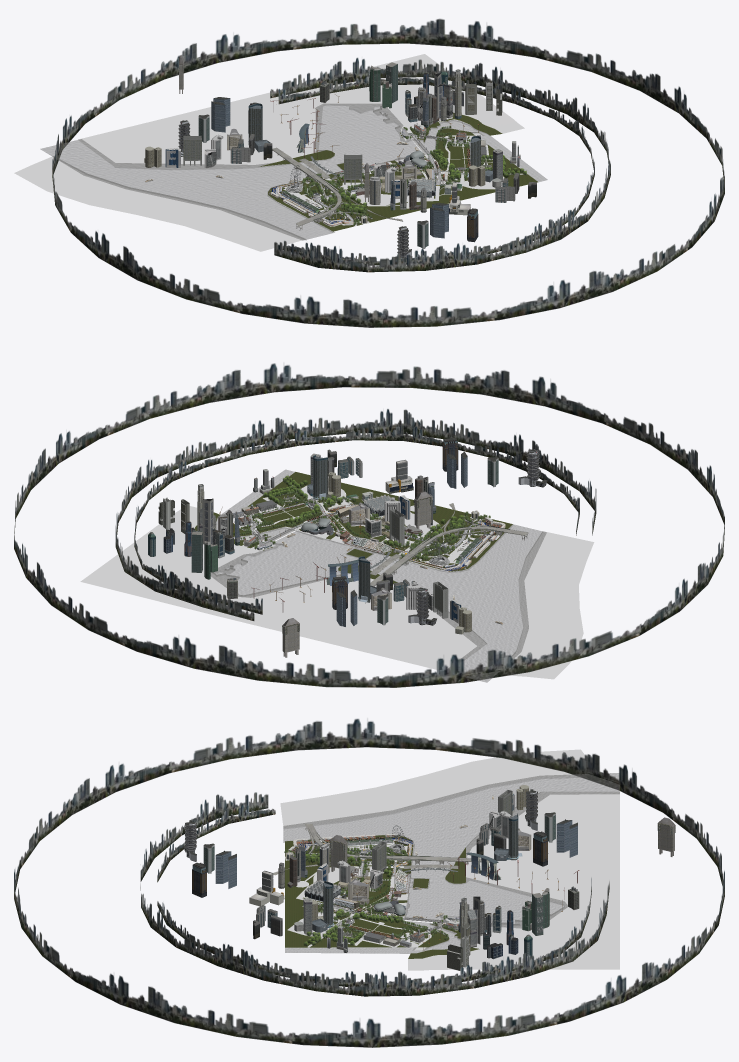
The model's file is singapore.glb.
The picture shows the model from 3 angles, top to bottom: view 1: azimuth 30°, elevation 25°; view 2: azimuth 150°, elevation 25°; view 3: azimuth 270°, elevation 25°; orthographic projection. The views are drawn at different scales.
Visible parts, largest first — view 1: Untitled; view 2: Untitled; view 3: Untitled.
Part boxes in pixels (bbox=[...]): Untitled: bbox=[15, 18, 724, 327]; Untitled: bbox=[14, 363, 724, 687]; Untitled: bbox=[14, 719, 724, 1047].
Size of what is drawn, in the model's own units: 4301 by 385 by 4301.
187 materials, 183 textured.
